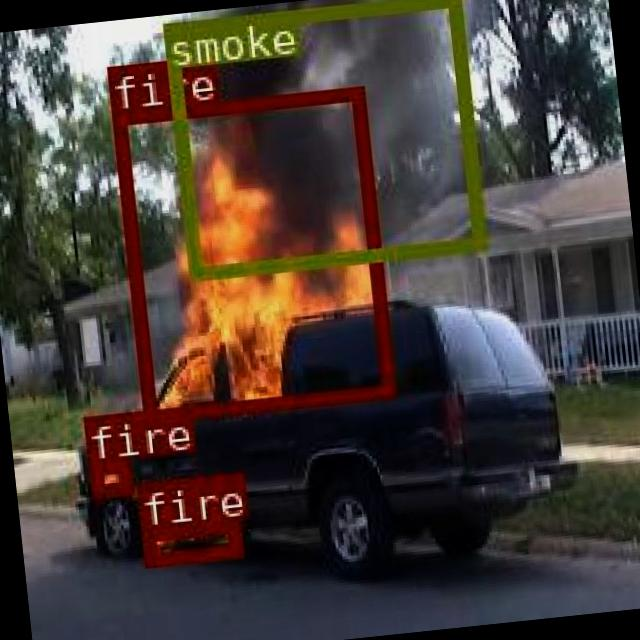fire: (111, 85, 392, 421), (140, 517, 241, 563), (84, 456, 128, 496)
smoke: (160, 0, 482, 278)
